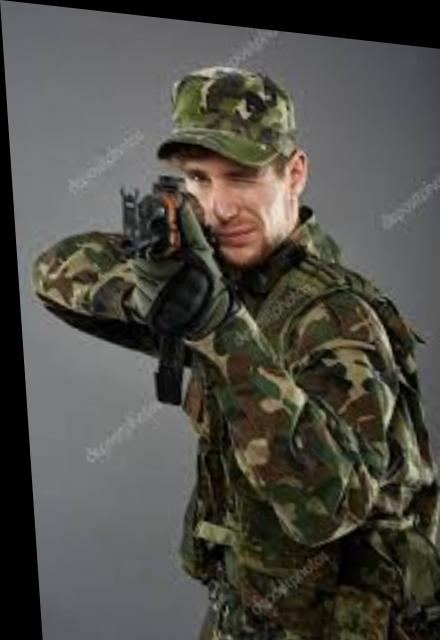other: (32, 42, 438, 640)
